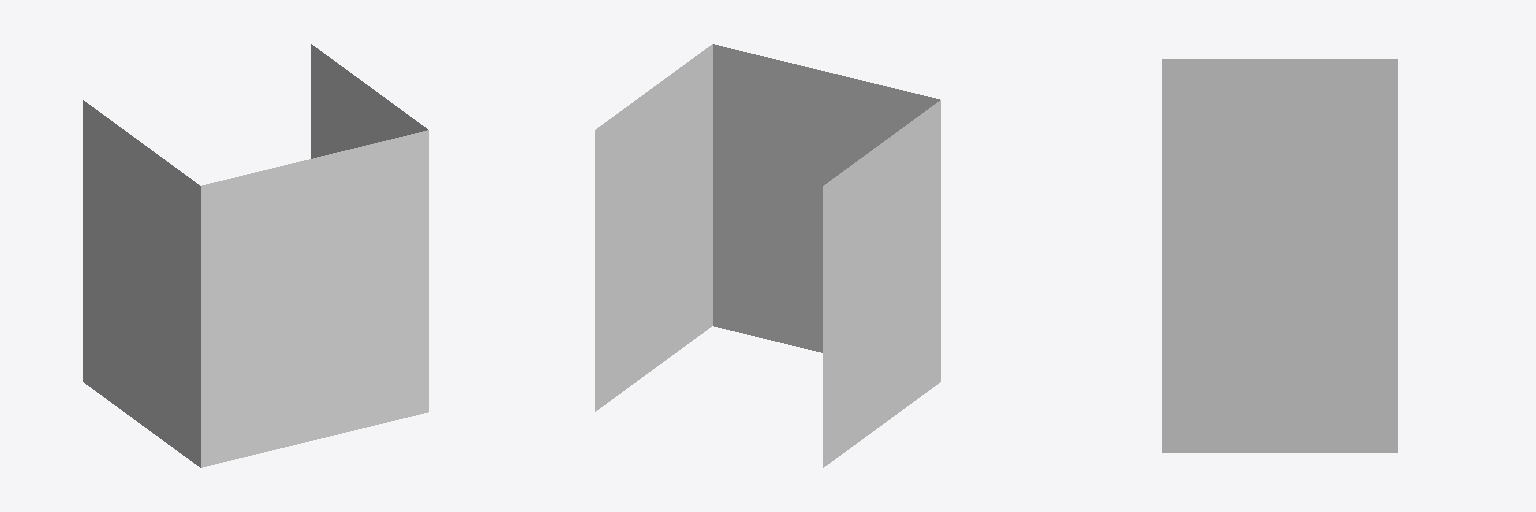
Rendered from vipWalls.obj.
3 views of the same model, side by side, from view 1: azimuth 30°, elevation 25°; view 2: azimuth 150°, elevation 25°; view 3: azimuth 270°, elevation 25° (orthographic).
Parts seen in each view (by area): view 1: Plane_Plane.001; view 2: Plane_Plane.001; view 3: Plane_Plane.001.
Boxes of the visible parts, x1,y1,x2,y2 form: Plane_Plane.001: [83, 44, 428, 467]; Plane_Plane.001: [595, 44, 940, 467]; Plane_Plane.001: [1162, 59, 1397, 452].
Size of the model in its own units: 20.17 by 23.8 by 17.99.